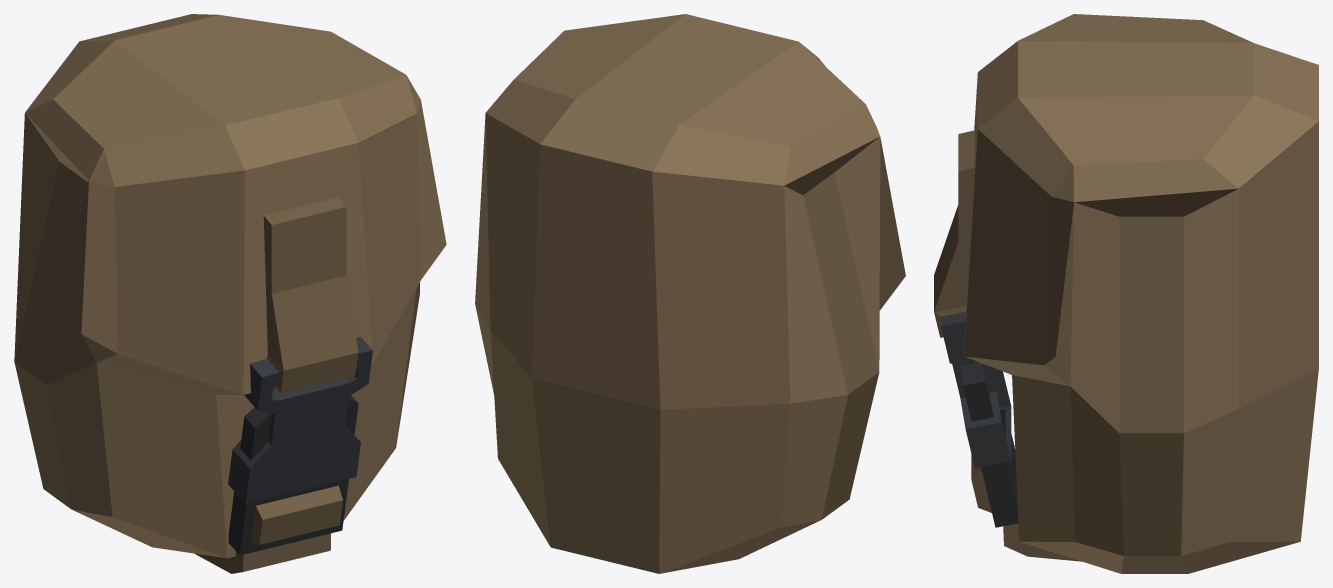
Rendered from SM_Chr_Attach_Pouch_Grenade_01.fbx.
3 views of the same model, side by side, from view 1: azimuth 30°, elevation 25°; view 2: azimuth 150°, elevation 25°; view 3: azimuth 270°, elevation 25° (orthographic). The views are drawn at different scales.
Parts seen in each view (by area): view 1: SM_Chr_Attach_Pouch_Grenade_01; view 2: SM_Chr_Attach_Pouch_Grenade_01; view 3: SM_Chr_Attach_Pouch_Grenade_01.
Boxes of the visible parts, <box> form: SM_Chr_Attach_Pouch_Grenade_01: <box>14,14,446,573</box>; SM_Chr_Attach_Pouch_Grenade_01: <box>475,14,905,573</box>; SM_Chr_Attach_Pouch_Grenade_01: <box>934,14,1318,573</box>.
Size of the model in its own units: 12.65 by 15.09 by 10.97.
